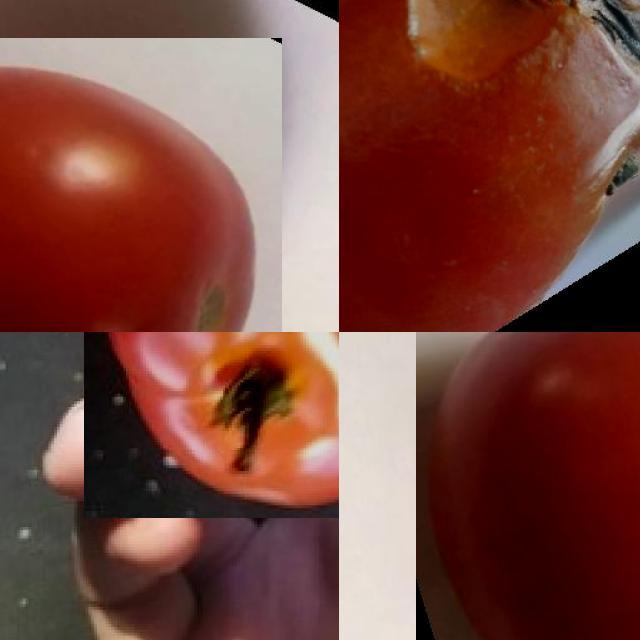Fresh Tomato: (0, 37, 282, 332), (416, 332, 640, 640), (84, 332, 339, 518)
Rotten Tomato: (339, 0, 640, 332)
